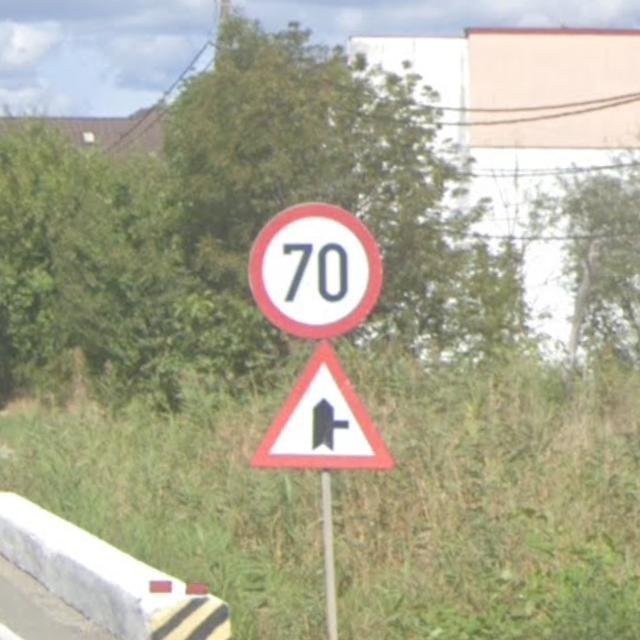forb_speed_over_70: (245, 200, 386, 343)
